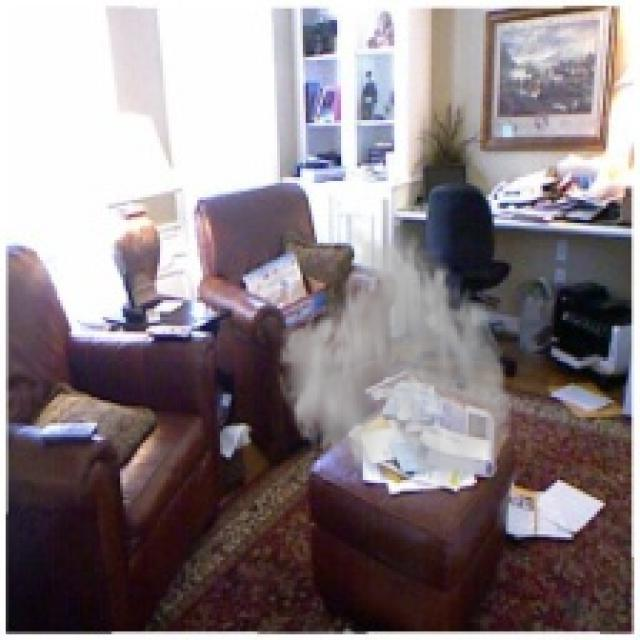smoke: (274, 223, 514, 491)
